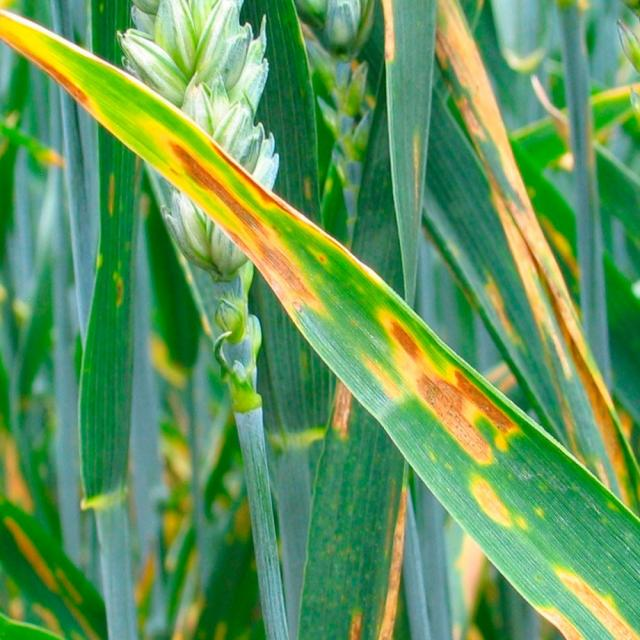wheat-septoria: (0, 9, 640, 640)
